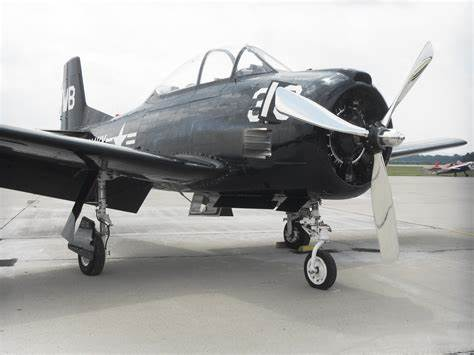Aeronef_militaire: (1, 38, 471, 292)
